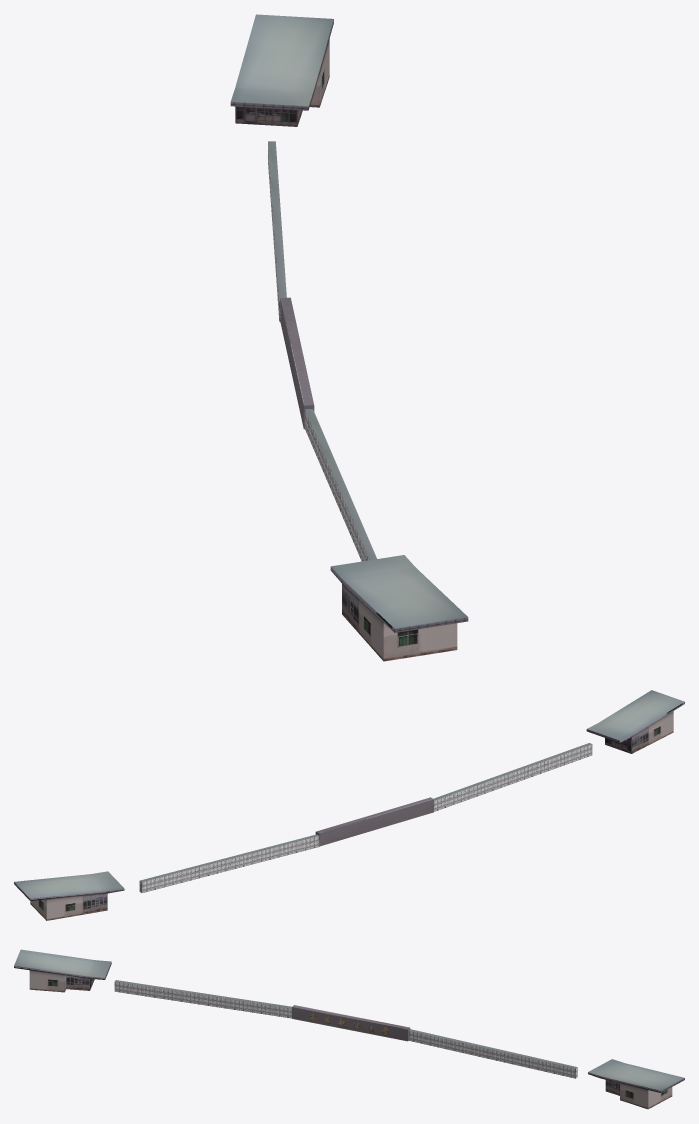
3 views of the same model, one above another, from view 1: azimuth 30°, elevation 25°; view 2: azimuth 150°, elevation 25°; view 3: azimuth 270°, elevation 25° (orthographic). The views are drawn at different scales.
Parts seen in each view (by area): view 1: Mesh05#8, Mesh03#11, Mesh02#15, Mesh06#7, Mesh01#13, Mesh04#9, Mesh07#6; view 2: Mesh07#6, Mesh03#11, Mesh06#7, Mesh05#8, Mesh01#13, Mesh04#9, Mesh02#15; view 3: Mesh06#7, Mesh07#6, Mesh03#11, Mesh01#13, Mesh05#8, Mesh02#15, Mesh04#9.
Part boxes in pixels (x1,y1,x2,y2): Mesh05#8: (230,14,333,110); Mesh03#11: (330,555,468,632); Mesh02#15: (342,584,457,661); Mesh06#7: (305,409,376,561); Mesh01#13: (280,297,314,429); Mesh04#9: (235,39,329,126); Mesh07#6: (268,141,286,321); Mesh07#6: (139,834,319,892); Mesh03#11: (586,690,684,742); Mesh06#7: (433,743,592,811); Mesh05#8: (14,871,124,900); Mesh01#13: (315,797,433,846); Mesh04#9: (30,893,107,920); Mesh02#15: (605,711,673,753); Mesh06#7: (114,980,291,1018); Mesh07#6: (409,1029,577,1078); Mesh03#11: (14,949,111,979); Mesh01#13: (292,1005,410,1041); Mesh05#8: (588,1059,684,1092); Mesh02#15: (29,970,94,992); Mesh04#9: (605,1080,672,1109).
Bounding box in the file's own units: 0.051 × 0.00387 × 0.1024.
Materials: 3 (3 with a texture image).
